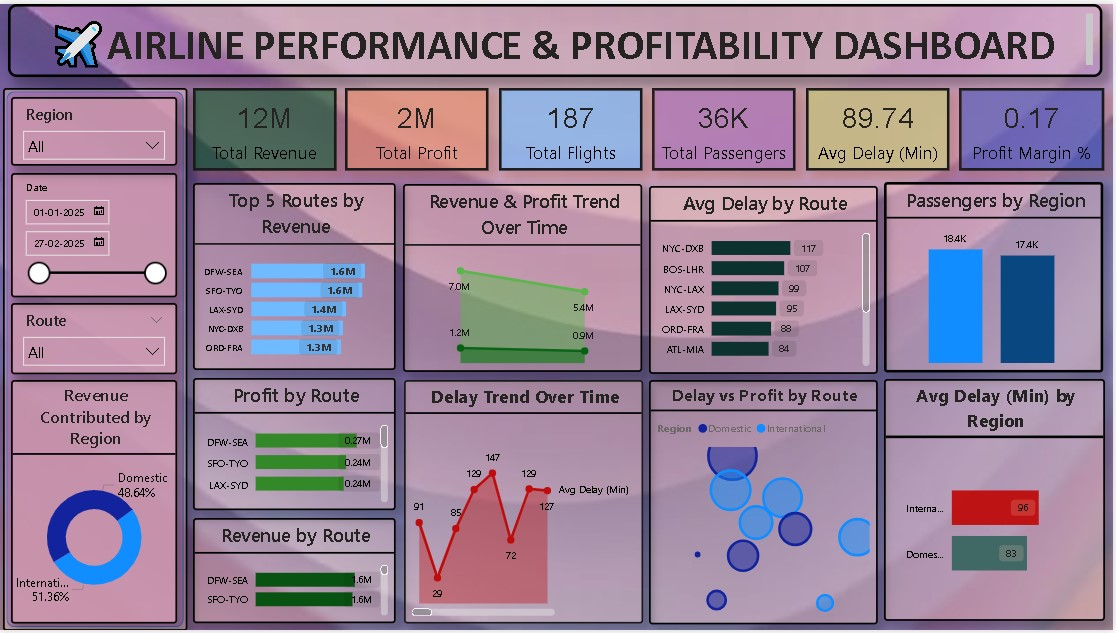

This screenshot's page, from the dashboard's own definition file:
{"tool":"powerbi","page":{"name":"DASHBOARD","canvas":[1280,720],"ordinal":0},"visuals":[{"type":"textbox","box":[10.9,0,1258.2,84],"z":0},{"type":"shape","box":[4.7,96.3,211.5,623.7],"z":1000},{"type":"slicer","fields":{"Values":["AirlinePerformance.Date"]},"box":[13.5,194.4,191.3,143.1],"z":2000},{"type":"slicer","fields":{"Values":["AirlinePerformance.Region"]},"box":[13.5,107.3,191.3,79.3],"z":3000},{"type":"slicer","fields":{"Values":["AirlinePerformance.Route"]},"box":[13.5,343.7,191.3,82.4],"z":4000},{"type":"card","title":"TOTAL REVENUE","fields":{"Values":["AirlinePerformance.Total Revenue"]},"box":[223.3,97.1,165.1,95.5],"z":5000},{"type":"card","fields":{"Values":["AirlinePerformance.Total Profit"]},"box":[398.1,97.1,165.1,95.5],"z":6000},{"type":"card","fields":{"Values":["AirlinePerformance.Total Passengers"]},"box":[750.8,97.1,165.1,95.5],"z":7000},{"type":"card","fields":{"Values":["AirlinePerformance.Total Flights"]},"box":[574.5,97.1,165.1,95.5],"z":8000},{"type":"card","fields":{"Values":["AirlinePerformance.Profit Margin %"]},"box":[1103.6,97.1,166.7,95.5],"z":9000},{"type":"card","fields":{"Values":["AirlinePerformance.Avg Delay (Min)"]},"box":[927.2,97.1,165.1,95.5],"z":10000},{"type":"lineChart","title":"Revenue & Profit Trend Over Time","fields":{"Y":["Sum(AirlinePerformance.Revenue)","Sum(AirlinePerformance.Profit)"],"Category":["AirlinePerformance.Date.Variation.Date Hierarchy.Month"]},"box":[464.5,206.6,275,215.9],"z":11000},{"type":"clusteredBarChart","title":"Top 5 Routes by Revenue","fields":{"Category":["AirlinePerformance.Route"],"Y":["AirlinePerformance.Total Revenue"]},"box":[223.3,205.5,233,215.2],"z":12000},{"type":"clusteredColumnChart","title":"Passengers by Region","fields":{"Category":["AirlinePerformance.Region"],"Y":["AirlinePerformance.Total Passengers"]},"box":[1017.5,205,251.7,219],"z":13000},{"type":"clusteredBarChart","title":"Revenue by Route","fields":{"Category":["AirlinePerformance.Route"],"Y":["AirlinePerformance.Total Revenue"]},"box":[223.3,590.6,233,121.4],"z":14000},{"type":"clusteredBarChart","title":"Profit by Route","fields":{"Category":["AirlinePerformance.Route"],"Y":["AirlinePerformance.Total Profit"]},"box":[223.3,430.4,233,152.1],"z":15000},{"type":"scatterChart","title":"Delay vs Profit by Route","fields":{"X":["AirlinePerformance.Avg Delay (Min)"],"Y":["AirlinePerformance.Total Profit"],"Size":["AirlinePerformance.Total Passengers"],"Category":["AirlinePerformance.Route"],"Series":["AirlinePerformance.Region"]},"box":[747.2,431.8,262.5,281.2],"z":16000},{"type":"donutChart","title":"Revenue Contributed by Region","fields":{"Category":["AirlinePerformance.Region"],"Y":["AirlinePerformance.Total Revenue"]},"box":[13.5,432.4,191.3,280],"z":18000},{"type":"clusteredBarChart","title":"Avg Delay  by Route","fields":{"Category":["AirlinePerformance.Route"],"Y":["AirlinePerformance.Avg Delay (Min)"]},"box":[747.2,209.7,262.5,215.9],"z":19000},{"type":"clusteredBarChart","fields":{"Y":["AirlinePerformance.Avg Delay (Min)"],"Category":["AirlinePerformance.Region"]},"box":[1017.2,430.8,253.5,278.4],"z":20000},{"type":"lineChart","title":"Delay Trend Over Time","fields":{"Category":["AirlinePerformance.Date.Variation.Date Hierarchy.Quarter","AirlinePerformance.Date.Variation.Date Hierarchy.Month","AirlinePerformance.Date.Variation.Date Hierarchy.Day"],"Y":["AirlinePerformance.Avg Delay (Min)"]},"box":[465,432.4,275.3,280],"z":21000}]}

Visuals, with their boxes in screenshot pixels (x1, y1, x2, y2), scaled from the page's 1280x720 canvas onto the 1116x633 screenshot:
textbox: l=10, t=0, r=1106, b=74
shape: l=4, t=85, r=188, b=632
slicer - AirlinePerformance.Date: l=12, t=171, r=179, b=297
slicer - AirlinePerformance.Region: l=12, t=94, r=179, b=164
slicer - AirlinePerformance.Route: l=12, t=302, r=179, b=375
"TOTAL REVENUE" card: l=195, t=85, r=339, b=169
card - AirlinePerformance.Total Profit: l=347, t=85, r=491, b=169
card - AirlinePerformance.Total Passengers: l=655, t=85, r=799, b=169
card - AirlinePerformance.Total Flights: l=501, t=85, r=645, b=169
card - AirlinePerformance.Profit Margin %: l=962, t=85, r=1108, b=169
card - AirlinePerformance.Avg Delay (Min): l=808, t=85, r=952, b=169
"Revenue & Profit Trend Over Time" lineChart: l=405, t=182, r=645, b=371
"Top 5 Routes by Revenue" clusteredBarChart: l=195, t=181, r=398, b=370
"Passengers by Region" clusteredColumnChart: l=887, t=180, r=1107, b=373
"Revenue by Route" clusteredBarChart: l=195, t=519, r=398, b=626
"Profit by Route" clusteredBarChart: l=195, t=378, r=398, b=512
"Delay vs Profit by Route" scatterChart: l=651, t=380, r=880, b=627
"Revenue Contributed by Region" donutChart: l=12, t=380, r=179, b=626
"Avg Delay  by Route" clusteredBarChart: l=651, t=184, r=880, b=374
clusteredBarChart - AirlinePerformance.Avg Delay (Min) x AirlinePerformance.Region: l=887, t=379, r=1108, b=624
"Delay Trend Over Time" lineChart: l=405, t=380, r=645, b=626
